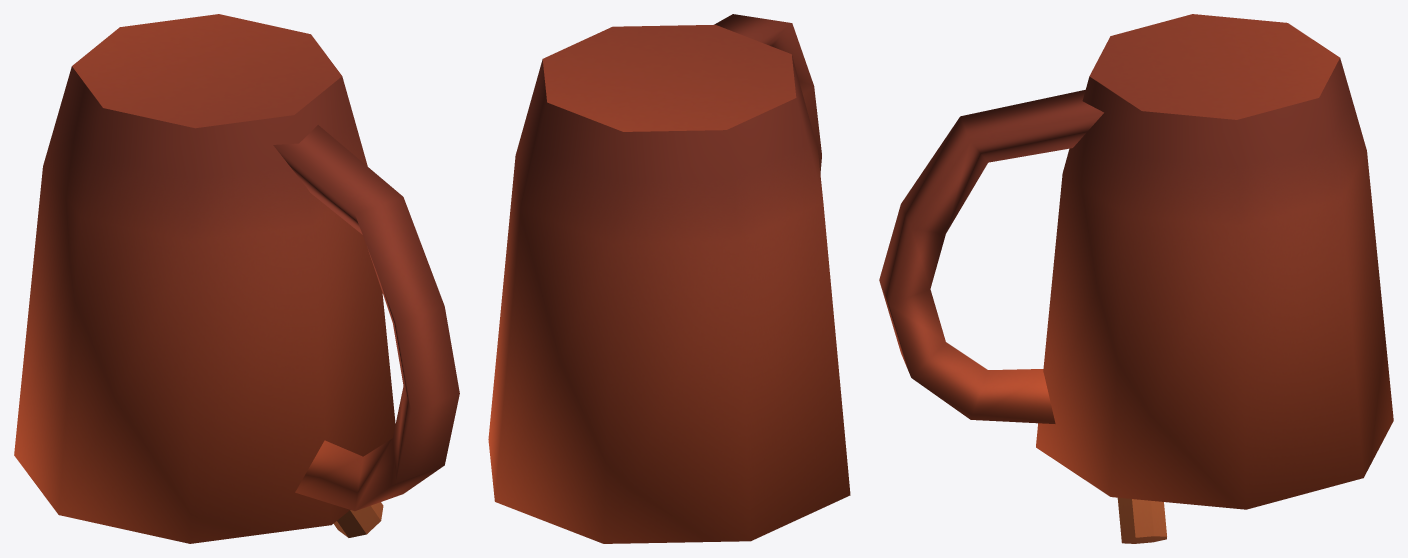
File: KS_VinChaud.fbx
3 views of the same model, side by side, from view 1: azimuth 30°, elevation 25°; view 2: azimuth 150°, elevation 25°; view 3: azimuth 270°, elevation 25° (orthographic). The views are drawn at different scales.
Parts seen in each view (by area): view 1: Mug.001; view 2: Mug.001; view 3: Mug.001.
Boxes of the visible parts, bbox=[...] form: Mug.001: bbox=[14, 14, 459, 543]; Mug.001: bbox=[488, 14, 850, 543]; Mug.001: bbox=[879, 14, 1393, 543].
Size of the model in its own units: 0.3851 by 0.5122 by 0.5535.
